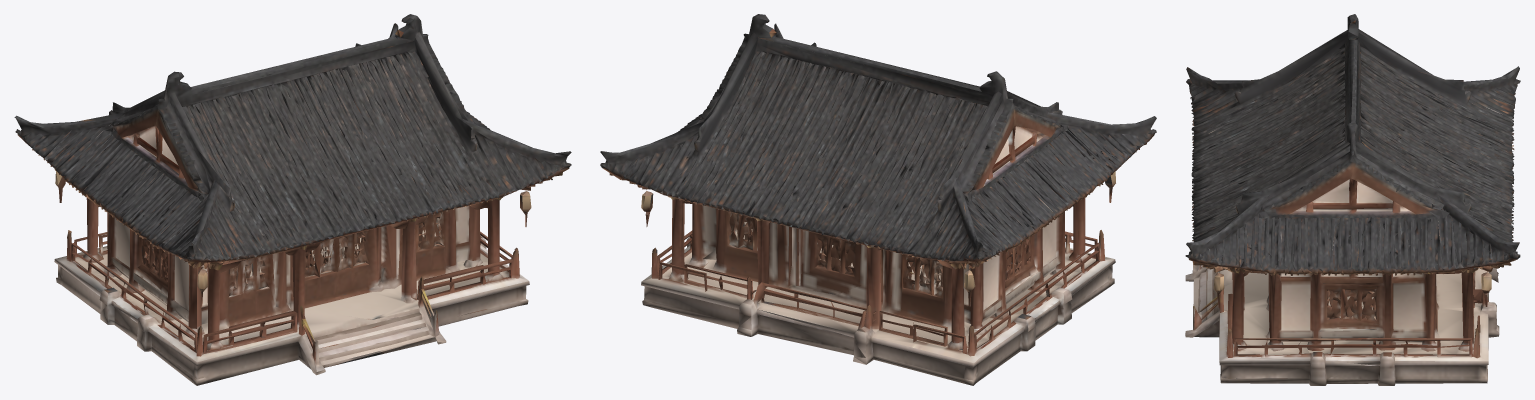
The model's file is 19_Xieshan_Public_Hall_LOD1.fbx.
3 renders of one model, left to right at view 1: azimuth 30°, elevation 25°; view 2: azimuth 150°, elevation 25°; view 3: azimuth 270°, elevation 25°, orthographic. The views are drawn at different scales.
Parts seen in each view (by area): view 1: 19_Xieshan_Public_Hall_L1; view 2: 19_Xieshan_Public_Hall_L1; view 3: 19_Xieshan_Public_Hall_L1.
Part boxes in pixels (bbox=[...]): 19_Xieshan_Public_Hall_L1: bbox=[14, 14, 571, 385]; 19_Xieshan_Public_Hall_L1: bbox=[600, 14, 1156, 385]; 19_Xieshan_Public_Hall_L1: bbox=[1185, 14, 1520, 385].
Size of the model in its own units: 14.41 by 9 by 11.45.
